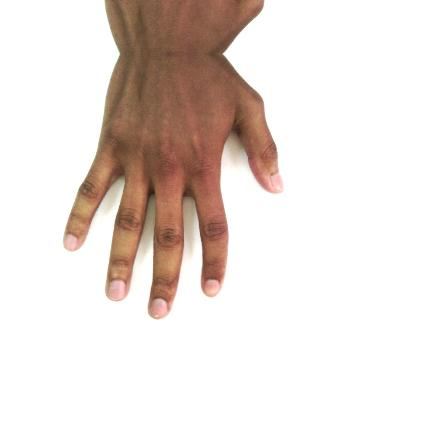Nail: (148, 298, 169, 319), (107, 280, 126, 301), (203, 278, 220, 297), (270, 171, 284, 192), (63, 234, 78, 251)
